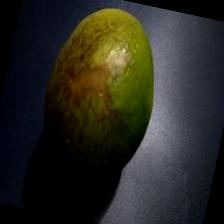Orange Rotten: (18, 0, 184, 213)
